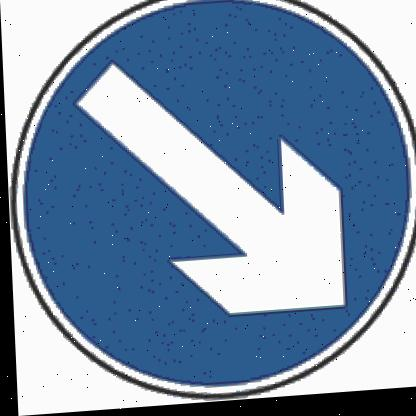Keep right: (2, 0, 416, 413)
